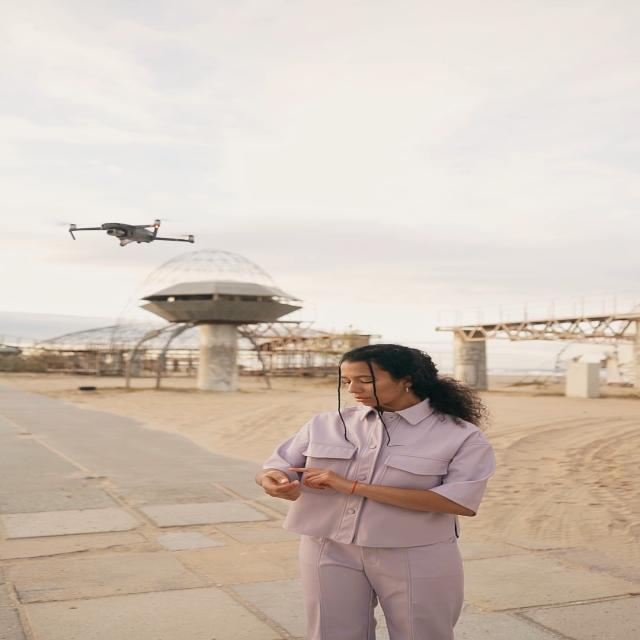Drone: (58, 212, 205, 254)
